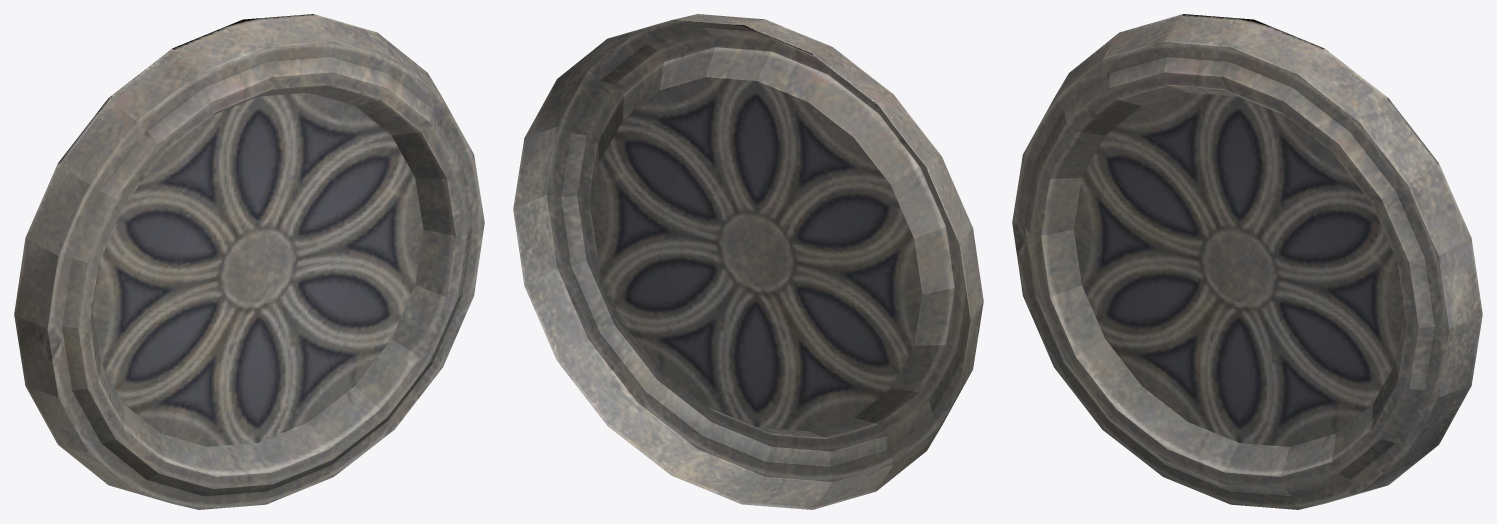
File: bg_lut_lucastle_housewindow01_sm_sup.FBX
3 renders of one model, left to right at view 1: azimuth 30°, elevation 25°; view 2: azimuth 150°, elevation 25°; view 3: azimuth 330°, elevation 25°, orthographic.
Parts seen in each view (by area): view 1: bg_lut_lucastle_housewindow01_sm_sup; view 2: bg_lut_lucastle_housewindow01_sm_sup; view 3: bg_lut_lucastle_housewindow01_sm_sup.
Part boxes in pixels (x1,y1,x2,y2): bg_lut_lucastle_housewindow01_sm_sup: (14, 14, 484, 509); bg_lut_lucastle_housewindow01_sm_sup: (513, 14, 983, 509); bg_lut_lucastle_housewindow01_sm_sup: (1012, 14, 1482, 509).
Bounding box in the file's own units: 73.84 × 73.84 × 8.36.
